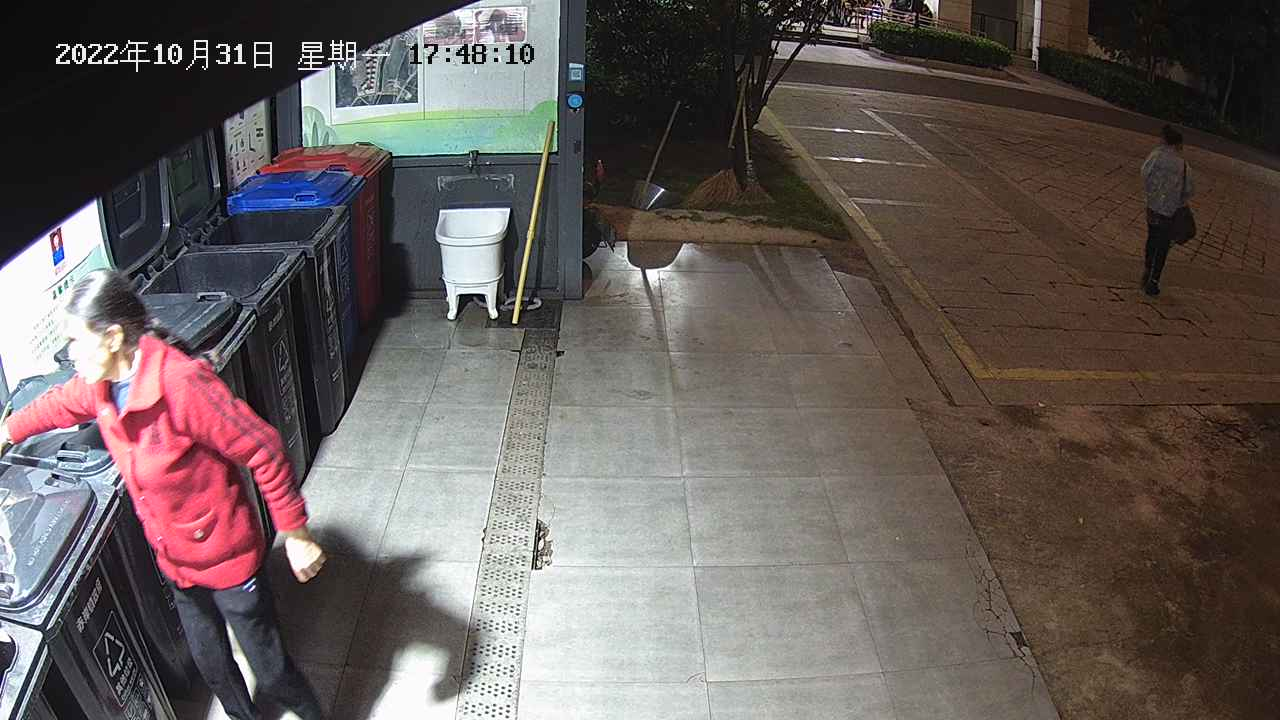person: (1, 267, 328, 720)
